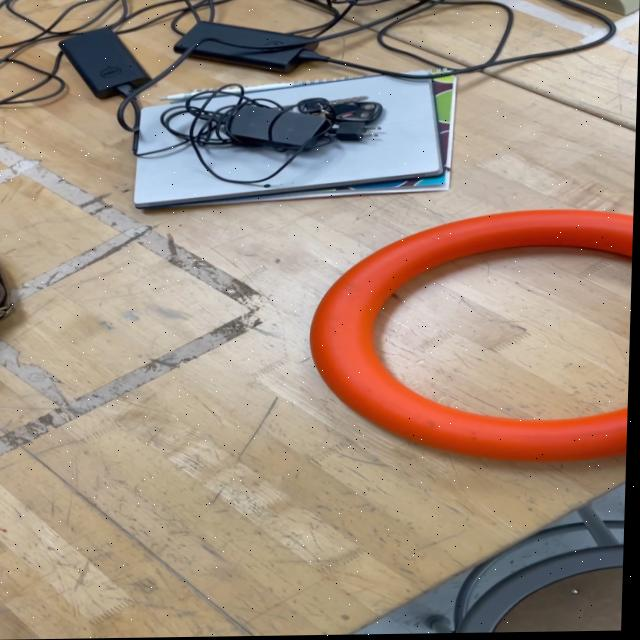note: (306, 207, 635, 468)
